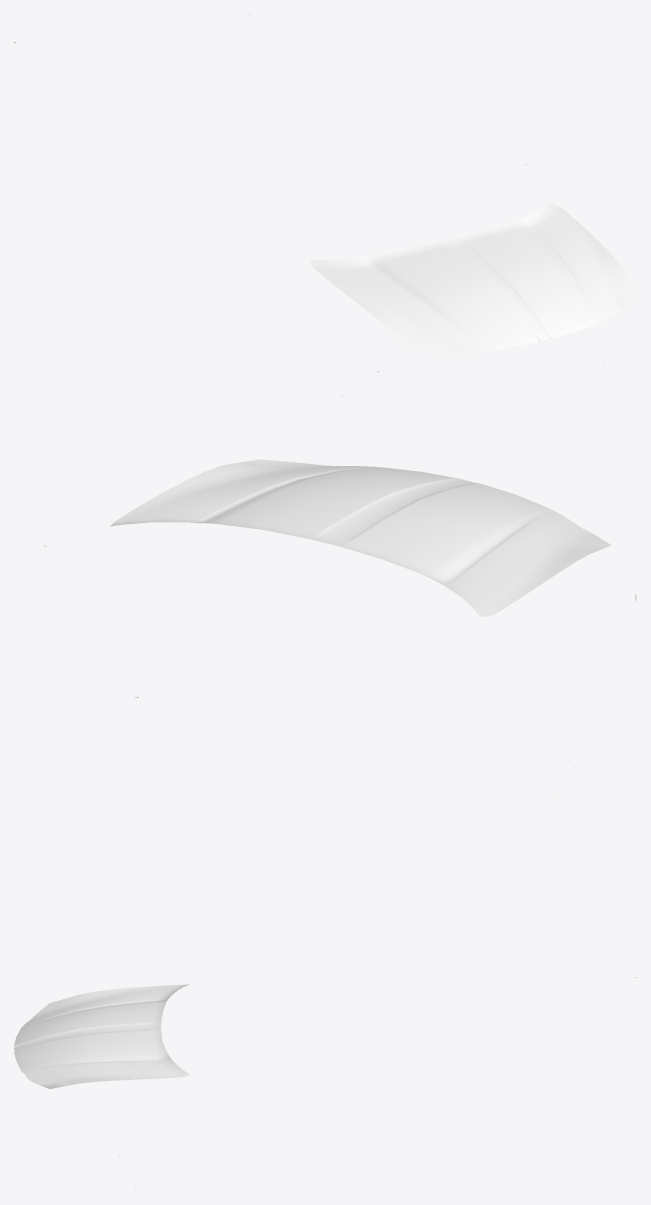
Rendered from dodge_charger_hood_2.glb.
The picture shows the model from 3 angles, top to bottom: view 1: azimuth 30°, elevation 25°; view 2: azimuth 150°, elevation 25°; view 3: azimuth 270°, elevation 25°; orthographic projection. The views are drawn at different scales.
Parts seen in each view (by area): view 1: Dodge_Charger_2015objcleanermaterialmergergles; view 2: Dodge_Charger_2015objcleanermaterialmergergles; view 3: Dodge_Charger_2015objcleanermaterialmergergles.
Boxes of the visible parts, x1,y1,x2,y2 form: Dodge_Charger_2015objcleanermaterialmergergles: (14,14,636,422); Dodge_Charger_2015objcleanermaterialmergergles: (41,459,636,935); Dodge_Charger_2015objcleanermaterialmergergles: (14,965,636,1189).
Bounding box in the file's own units: 4.82 × 3.72 × 12.13.
3 materials, 1 textured.
